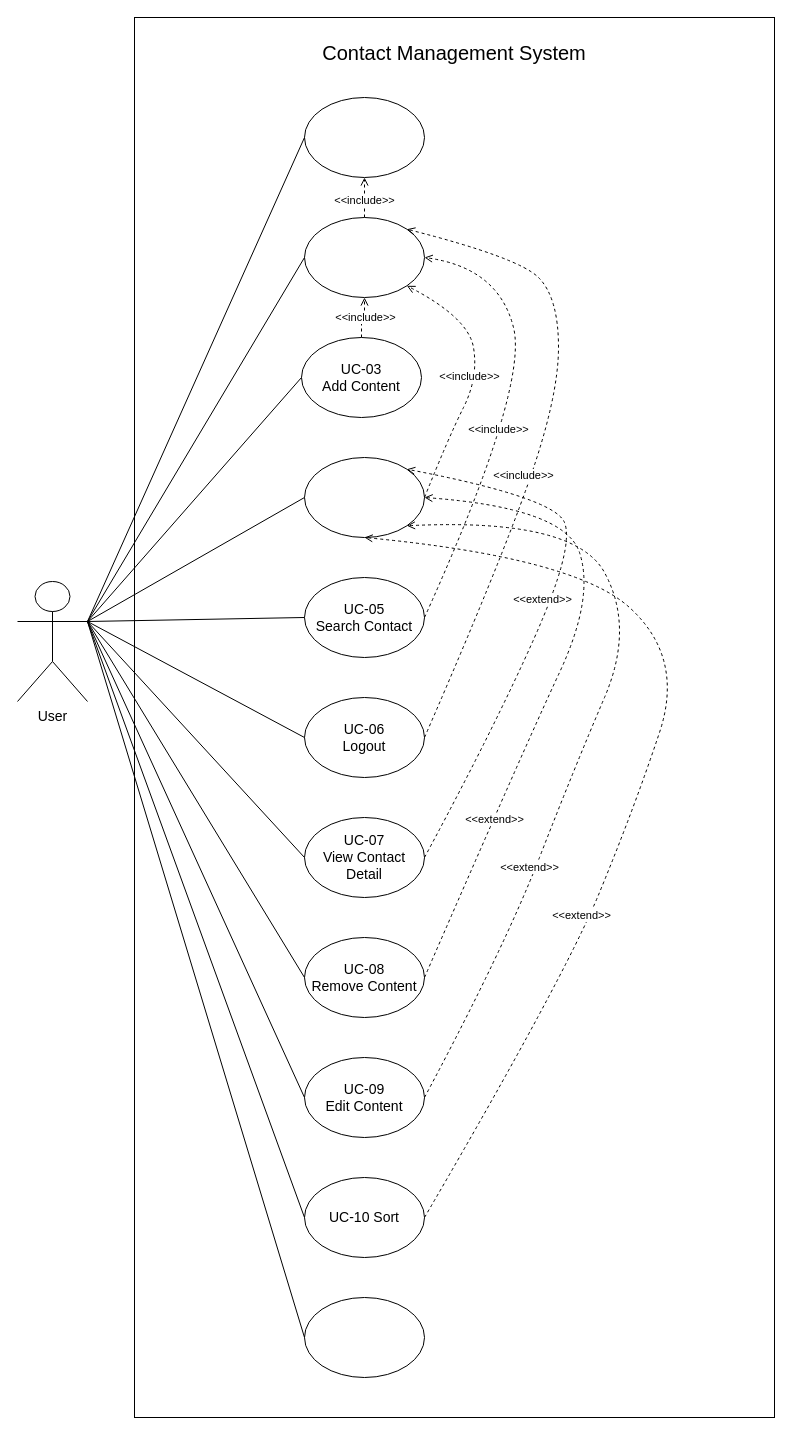
Some shapes in this 792 by 1435 pixel diagram are drawn without their labels. The shapes that lost their labels are listed below. From the top down, each one's centre as x and y in pixels, then its label:
[364,137]: UC-01 Register
[364,257]: UC-02 Login
[364,497]: UC-04 Display Contact List
[364,1337]: UC-11 Exit
